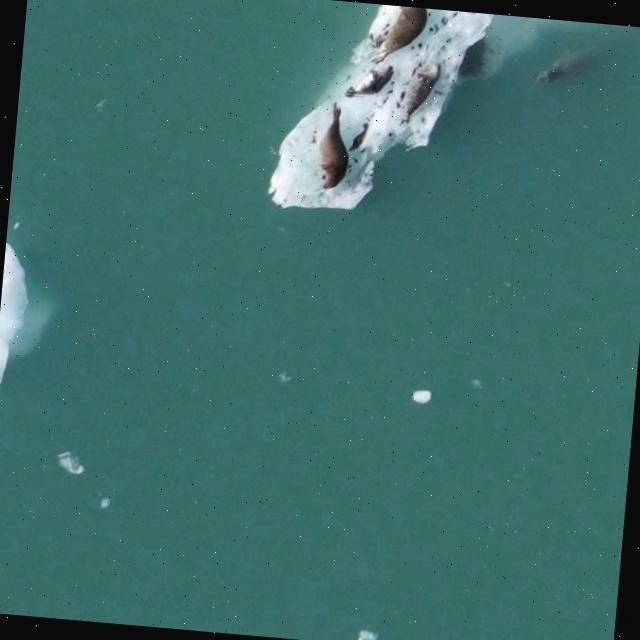seal: (387, 52, 448, 125), (318, 105, 354, 193), (343, 59, 400, 107), (535, 46, 592, 86)
